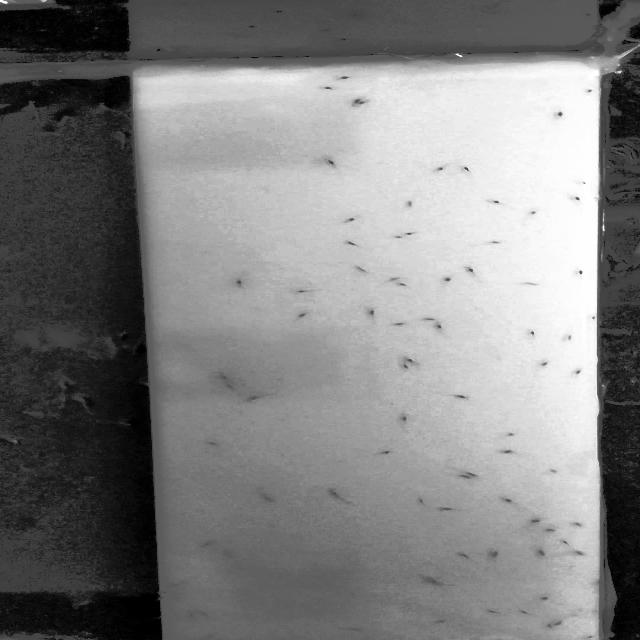shrimp: (522, 514, 560, 524), (256, 491, 282, 505), (349, 261, 376, 274), (200, 437, 227, 448), (422, 575, 447, 586), (482, 238, 512, 247), (361, 306, 383, 318), (331, 73, 360, 82), (228, 278, 254, 288), (500, 447, 523, 458), (165, 579, 188, 590), (562, 332, 580, 346), (323, 489, 348, 499), (314, 82, 338, 92), (504, 430, 528, 440), (395, 413, 414, 425), (290, 289, 315, 298), (501, 497, 525, 506), (351, 94, 370, 105), (570, 367, 587, 379), (515, 607, 533, 618), (438, 506, 462, 514), (535, 359, 554, 369), (404, 229, 421, 240), (440, 276, 463, 284), (553, 108, 568, 120), (406, 358, 424, 368), (556, 537, 576, 546), (199, 540, 221, 548), (483, 608, 502, 617), (434, 324, 451, 334), (343, 240, 364, 248), (211, 375, 239, 381), (535, 595, 556, 603), (488, 549, 506, 558), (339, 217, 362, 224), (460, 164, 476, 174), (392, 320, 412, 328), (383, 276, 409, 282), (431, 164, 448, 173), (247, 394, 262, 404), (376, 449, 397, 456), (184, 611, 200, 620), (538, 547, 552, 557), (574, 549, 591, 557), (326, 156, 338, 167), (491, 197, 504, 207), (451, 395, 472, 401), (198, 611, 216, 618), (466, 265, 478, 275), (422, 317, 442, 323), (541, 528, 561, 534), (222, 551, 235, 560), (158, 590, 177, 596), (298, 312, 313, 319), (461, 552, 474, 560), (414, 498, 431, 504), (571, 522, 588, 528), (526, 330, 540, 337), (527, 209, 541, 216), (571, 195, 584, 202), (577, 267, 586, 277), (436, 620, 451, 626), (200, 634, 221, 638), (468, 471, 482, 477), (348, 627, 363, 632), (458, 474, 470, 480), (221, 383, 235, 388), (358, 100, 369, 106), (402, 364, 411, 371), (396, 282, 406, 288)
